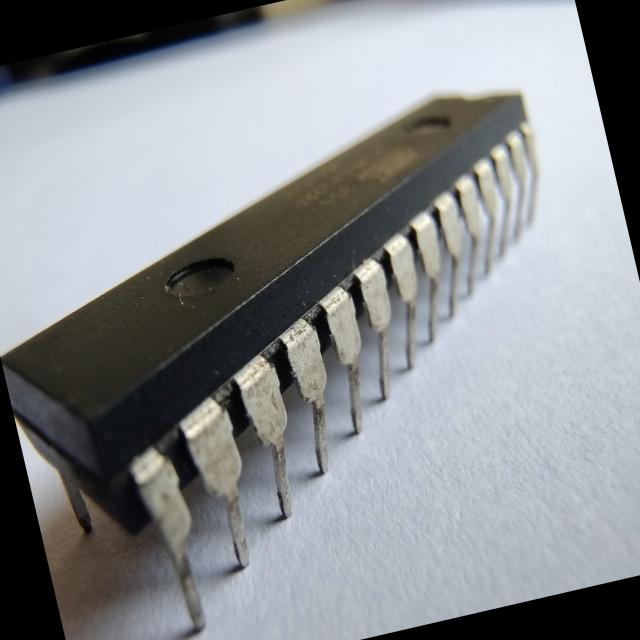atmega: (0, 69, 629, 640)
